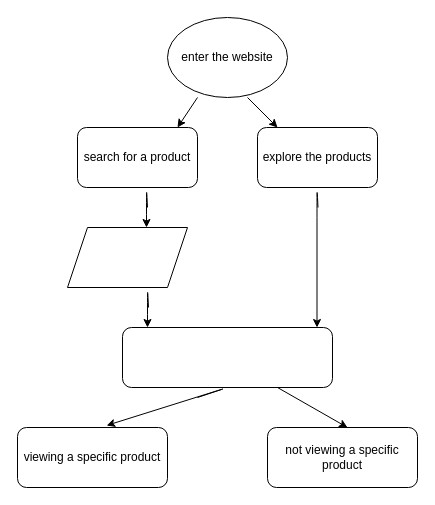
The diagram is 435 pixels wide and 505 high, and some of its shapes have lost their labels. Each missing label, with the centre of its shape:
"enter input to search" goes at point 127,257.
"looking over the products" goes at point 227,357.
